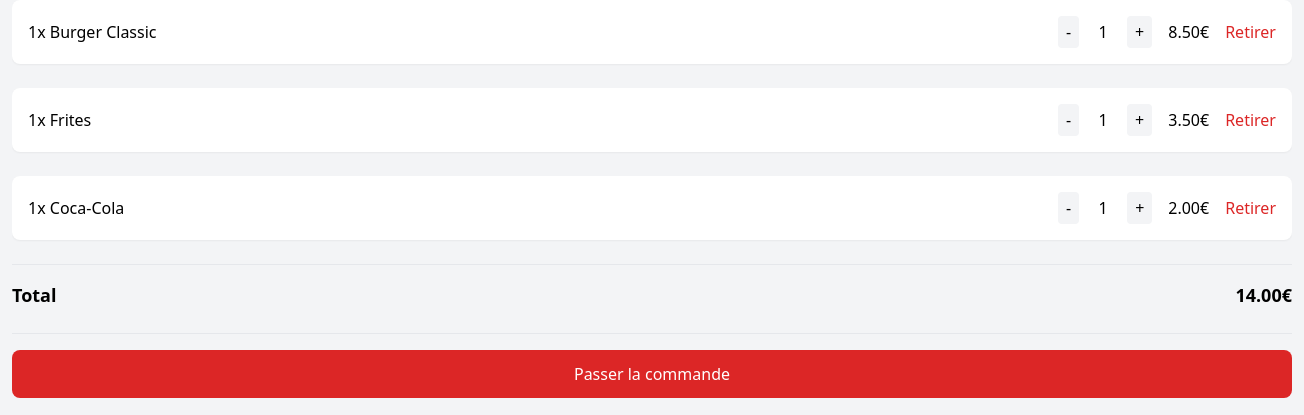
it: Integration Cart + Promotions › met à jour les promotions quand on modifie les quantités
The image size is (1304, 415).
Augmente la quantité du burger
Click the button "+" next to "8.50". click: (1140, 32)
box: [1127, 16, 1152, 48]
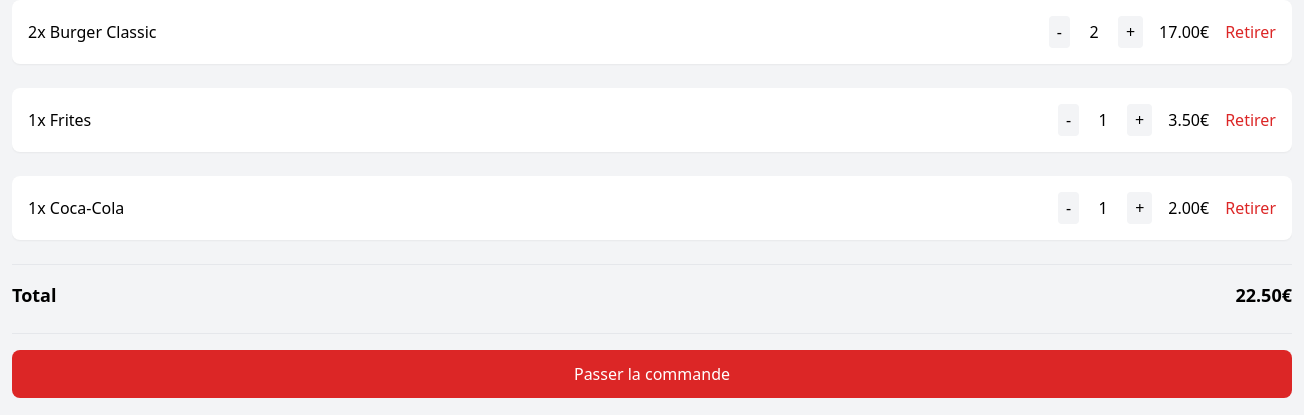
Now the text "22.50€" is shown, box [1235, 281, 1292, 309]
